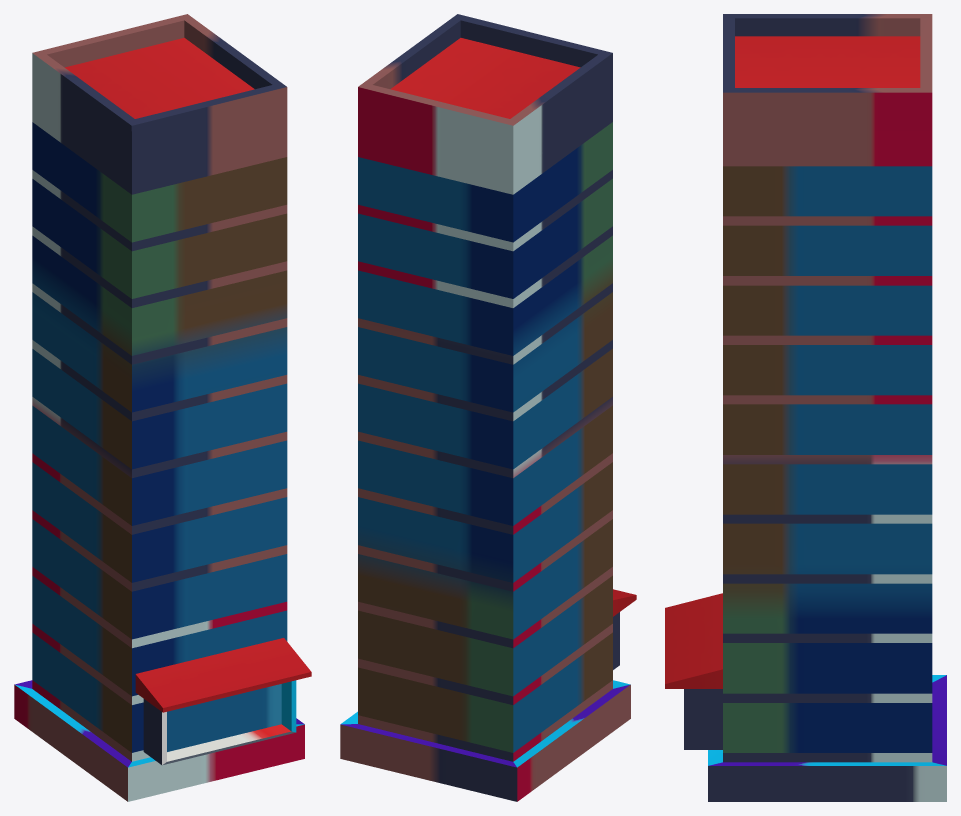
File: Building2.fbx
3 renders of one model, left to right at view 1: azimuth 30°, elevation 25°; view 2: azimuth 150°, elevation 25°; view 3: azimuth 270°, elevation 25°, orthographic. The views are drawn at different scales.
Visible parts, largest first — view 1: Building2; view 2: Building2; view 3: Building2.
Part boxes in pixels (<box>): Building2: <box>14,14,311,801</box>; Building2: <box>340,14,636,801</box>; Building2: <box>665,14,946,801</box>.
Size of the model in its own units: 165 by 595 by 216.
